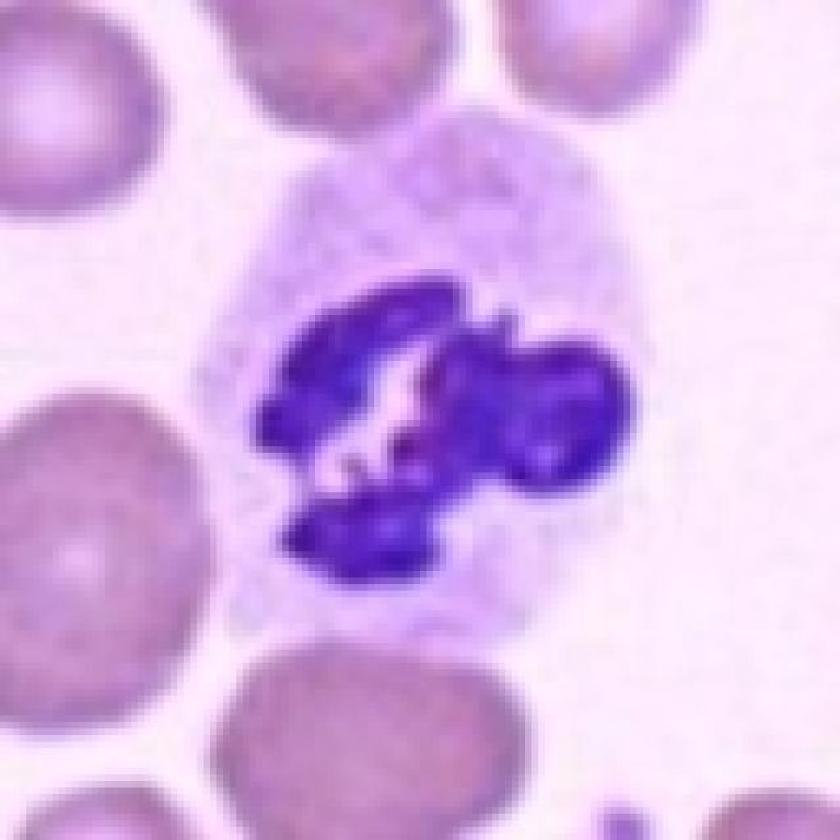neutrophil: (194, 110, 660, 666)
